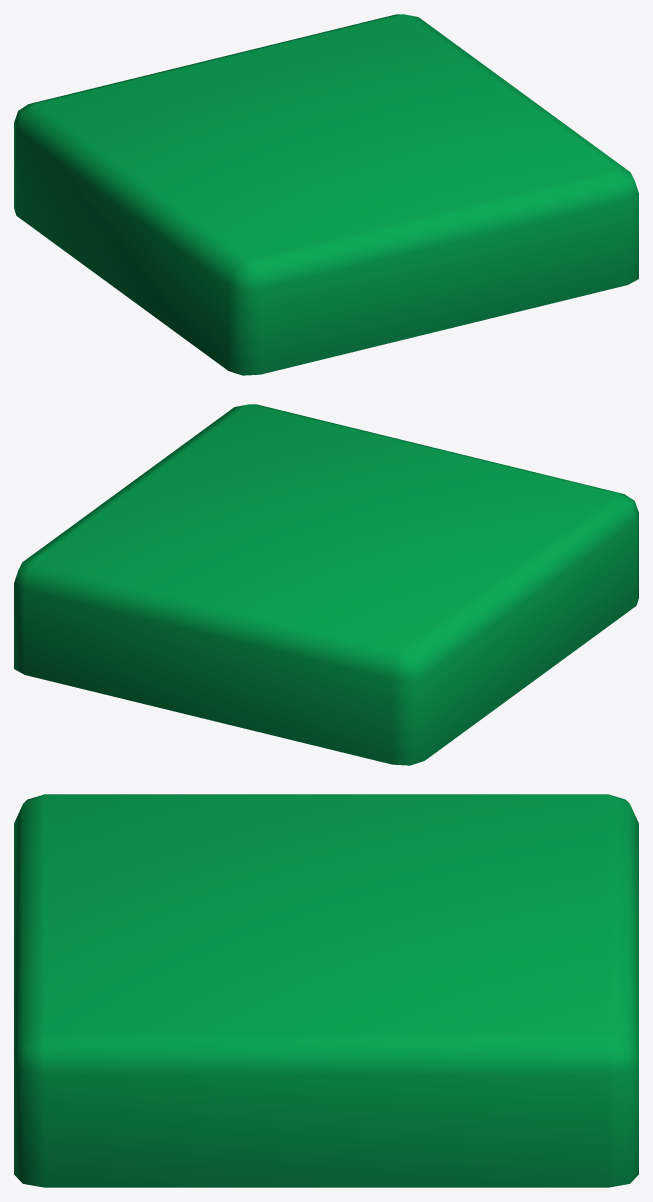
Rendered from 3D_Tile_Top_01v03.fbx.
The picture shows the model from 3 angles, top to bottom: view 1: azimuth 30°, elevation 25°; view 2: azimuth 150°, elevation 25°; view 3: azimuth 270°, elevation 25°; orthographic projection. The views are drawn at different scales.
Visible parts, largest first — view 1: 3D_Tile_Top_01v03; view 2: 3D_Tile_Top_01v03; view 3: 3D_Tile_Top_01v03.
Boxes of the visible parts, bbox=[...] form: 3D_Tile_Top_01v03: bbox=[14, 14, 638, 375]; 3D_Tile_Top_01v03: bbox=[14, 404, 638, 765]; 3D_Tile_Top_01v03: bbox=[14, 794, 638, 1187].
Bounding box in the file's own units: 200 × 50 × 200.
